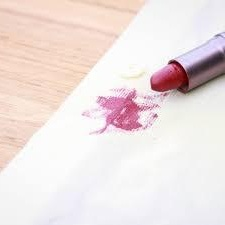lipstick: (80, 89, 168, 139)
